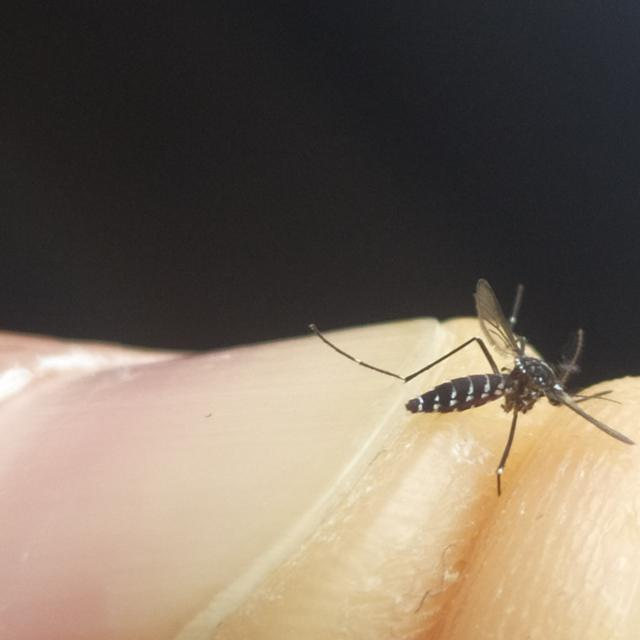albopictus: (310, 263, 634, 501)
